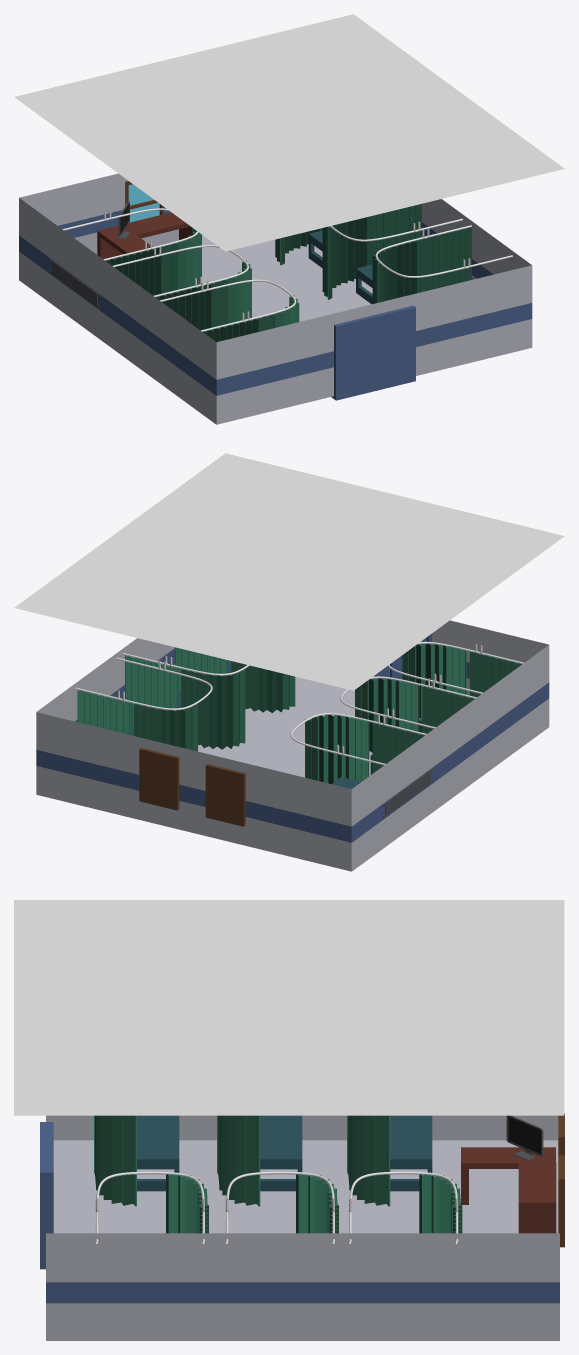
File: ERROOM.1.fbx
The picture shows the model from 3 angles, top to bottom: view 1: azimuth 30°, elevation 25°; view 2: azimuth 150°, elevation 25°; view 3: azimuth 270°, elevation 25°; orthographic projection. The views are drawn at different scales.
Parts seen in each view (by area): view 1: Cube.001, Cube, Cube.018, Cube.032, Cube.030, Cube.033, Cube.024, Cube.029, Cube.005, Cube.007, Cube.004, Cube.008 (+11 smaller); view 2: Cube.001, Cube, Cube.030, Cube.024, Cube.005, Cube.023, Cube.027, Cube.029, Cube.020, Cube.021, Cube.033, Cube.026 (+9 smaller); view 3: Cube.001, Cube, Cube.024, Cube.005, Cube.023, Cube.003, Cube.006, Cube.009, Cube.002, Cube.027, Cube.033, Cube.030 (+7 smaller).
Boxes of the visible parts, x1=… form: Cube.001: x1=14, y1=14, x2=564, y2=251; Cube: x1=19, y1=173, x2=532, y2=424; Cube.018: x1=331, y1=305, x2=415, y2=400; Cube.032: x1=413, y1=226, x2=471, y2=293; Cube.030: x1=322, y1=217, x2=366, y2=299; Cube.033: x1=372, y1=241, x2=416, y2=303; Cube.024: x1=161, y1=228, x2=201, y2=295; Cube.029: x1=367, y1=204, x2=421, y2=265; Cube.005: x1=209, y1=260, x2=251, y2=330; Cube.007: x1=105, y1=247, x2=161, y2=297; Cube.004: x1=155, y1=284, x2=211, y2=331; Cube.008: x1=97, y1=225, x2=153, y2=260; Cube.001: x1=14, y1=453, x2=564, y2=690; Cube: x1=36, y1=620, x2=549, y2=871; Cube.030: x1=181, y1=669, x2=245, y2=749; Cube.024: x1=305, y1=714, x2=369, y2=783; Cube.005: x1=355, y1=678, x2=419, y2=752; Cube.023: x1=402, y1=643, x2=466, y2=718; Cube.027: x1=133, y1=703, x2=197, y2=751; Cube.029: x1=125, y1=655, x2=177, y2=725; Cube.020: x1=139, y1=747, x2=179, y2=810; Cube.021: x1=205, y1=764, x2=245, y2=826; Cube.033: x1=231, y1=661, x2=295, y2=712; Cube.026: x1=77, y1=690, x2=130, y2=734; Cube.001: x1=14, y1=900, x2=564, y2=1115; Cube: x1=46, y1=1115, x2=559, y2=1340; Cube.024: x1=348, y1=1115, x2=390, y2=1206; Cube.005: x1=218, y1=1115, x2=260, y2=1206; Cube.023: x1=95, y1=1115, x2=136, y2=1206; Cube.003: x1=260, y1=1115, x2=302, y2=1191; Cube.006: x1=390, y1=1115, x2=432, y2=1191; Cube.009: x1=518, y1=1163, x2=556, y2=1233; Cube.002: x1=137, y1=1115, x2=179, y2=1191; Cube.027: x1=419, y1=1174, x2=460, y2=1233; Cube.033: x1=166, y1=1174, x2=207, y2=1233; Cube.030: x1=296, y1=1174, x2=337, y2=1233.
Size of the model in its own units: 1291 by 1394 by 675.
